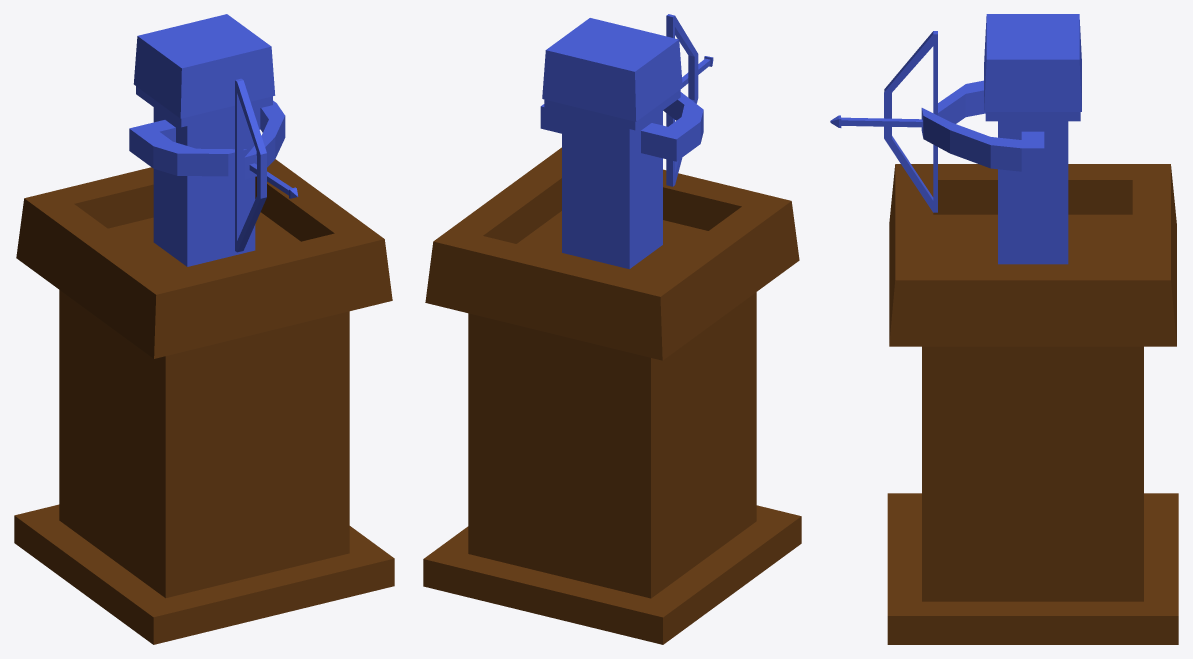
Rendered from ArcherTower.fbx.
3 renders of one model, left to right at view 1: azimuth 30°, elevation 25°; view 2: azimuth 150°, elevation 25°; view 3: azimuth 270°, elevation 25°, orthographic. The views are drawn at different scales.
Visible parts, largest first — view 1: Cube, Cube.001; view 2: Cube, Cube.001; view 3: Cube, Cube.001.
Boxes of the visible parts, x1,y1,x2,y2 form: Cube: [14, 159, 394, 644]; Cube.001: [129, 14, 298, 266]; Cube: [423, 147, 801, 644]; Cube.001: [540, 14, 713, 269]; Cube: [887, 164, 1178, 644]; Cube.001: [830, 14, 1081, 264].
Bounding box in the file's own units: 295 × 612 × 353.
